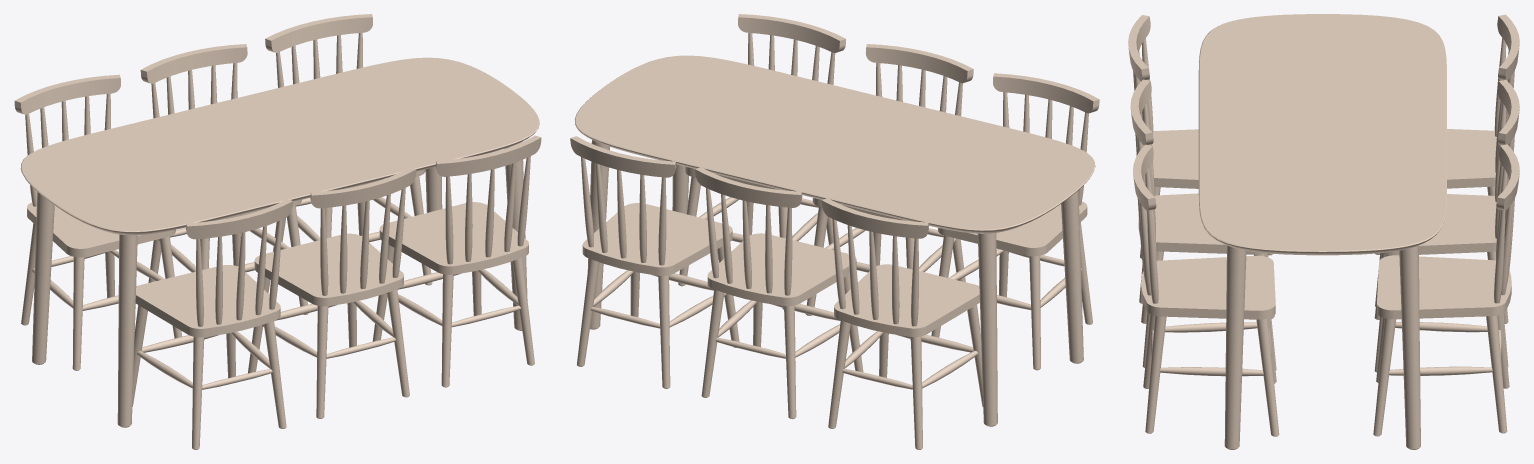
File: 575_ダイニングテーブルセット6人掛け.glb
The picture shows the model from 3 angles, left to right: view 1: azimuth 30°, elevation 25°; view 2: azimuth 150°, elevation 25°; view 3: azimuth 270°, elevation 25°; orthographic projection. The views are drawn at different scales.
Visible parts, largest first — view 1: Body, chair4, chair6, chair5, chair1, chair2, chair3; view 2: Body, chair1, chair2, chair3, chair4, chair5, chair6; view 3: Body, chair6, chair3, chair2, chair5, chair1, chair4.
Boxes of the visible parts, box(x1,y1,x2,y2) form: Body: box(20, 57, 539, 427); chair4: box(132, 199, 292, 449); chair6: box(372, 135, 541, 387); chair5: box(248, 167, 416, 418); chair1: box(14, 74, 182, 370); chair2: box(140, 44, 308, 314); chair3: box(265, 14, 432, 285); Body: box(574, 55, 1095, 426); chair1: box(821, 198, 983, 449); chair2: box(695, 167, 863, 419); chair3: box(570, 136, 739, 388); chair4: box(931, 73, 1099, 370); chair5: box(806, 44, 973, 339); chair6: box(678, 14, 845, 309); Body: box(1198, 14, 1446, 449); chair6: box(1133, 144, 1279, 436); chair3: box(1373, 144, 1519, 436); chair2: box(1374, 80, 1519, 372); chair5: box(1130, 79, 1276, 370); chair1: box(1375, 14, 1519, 306); chair4: box(1128, 15, 1272, 303).
Bounding box in the file's own units: 1.7 × 0.795 × 1.19.
